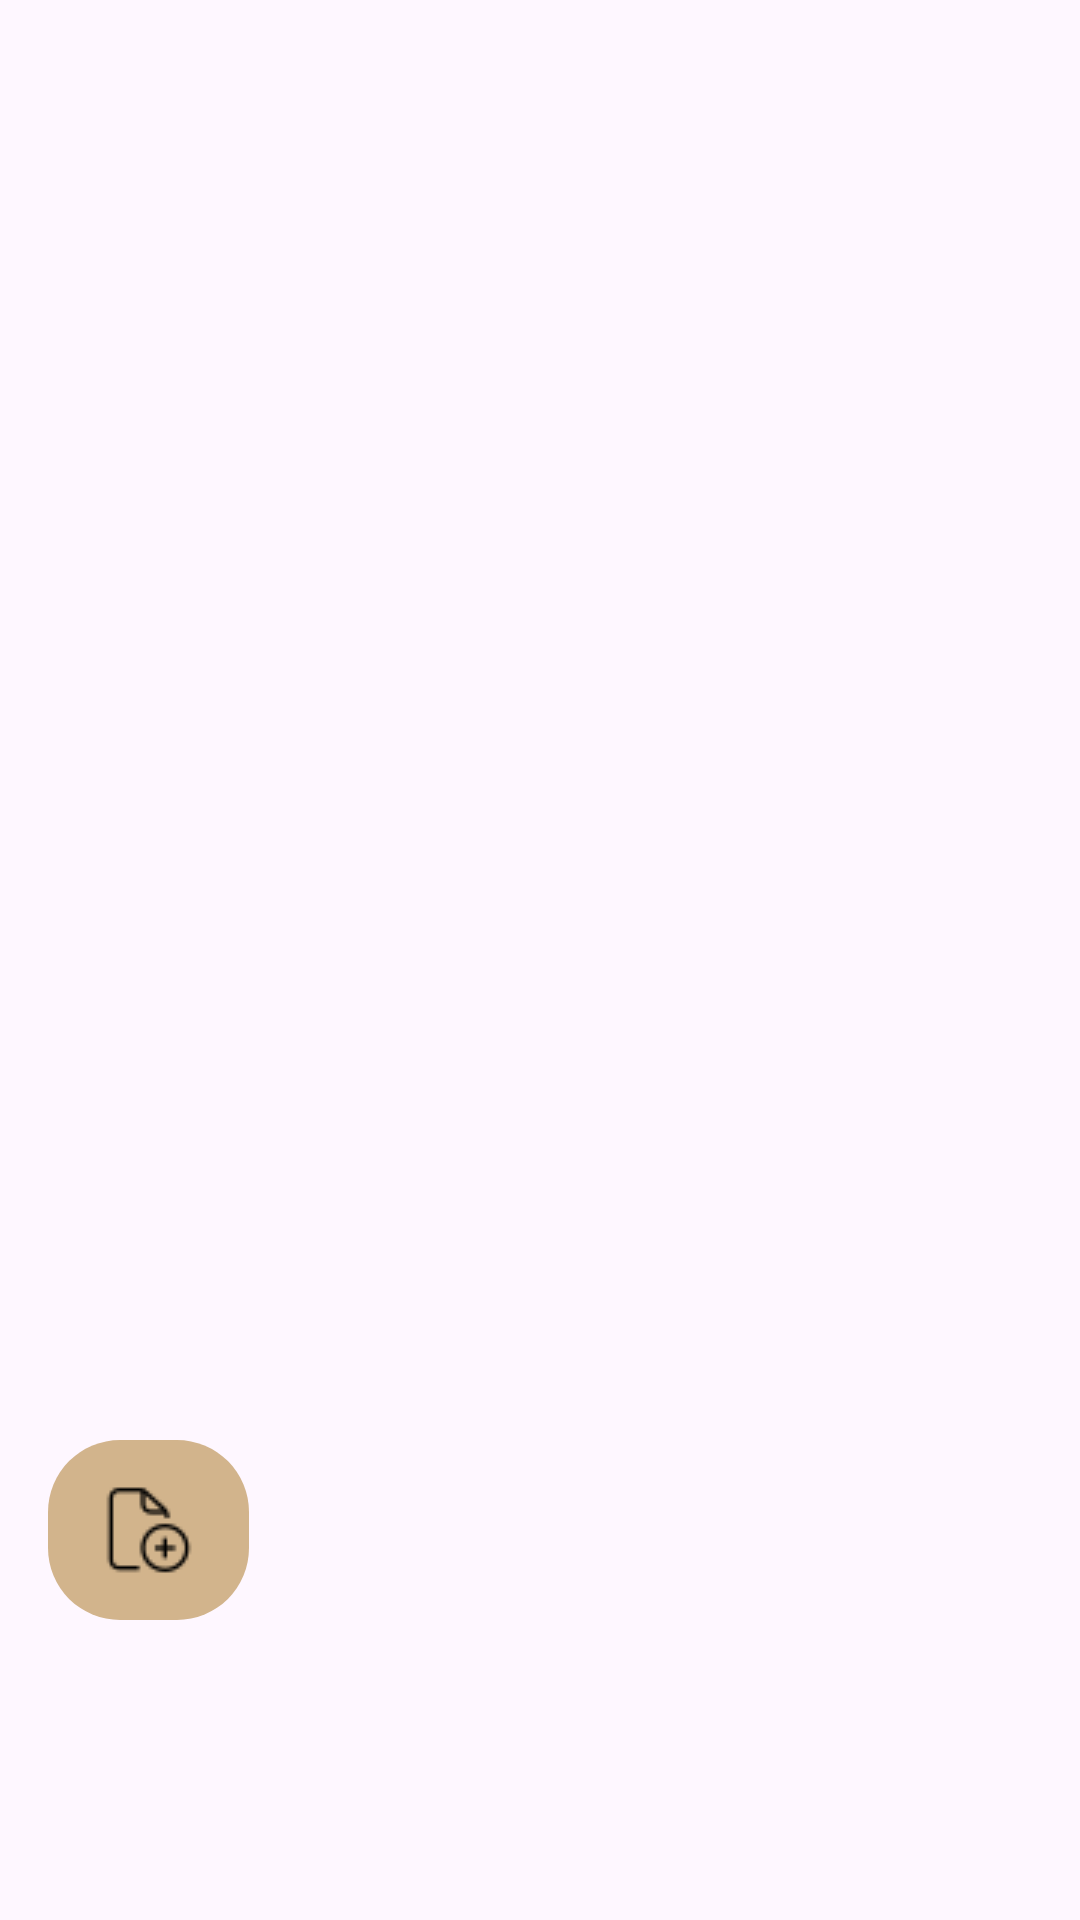

Screen size 1080*1920. Icon name, then its center in pixels as [x,y]:
create: [148,1530]
